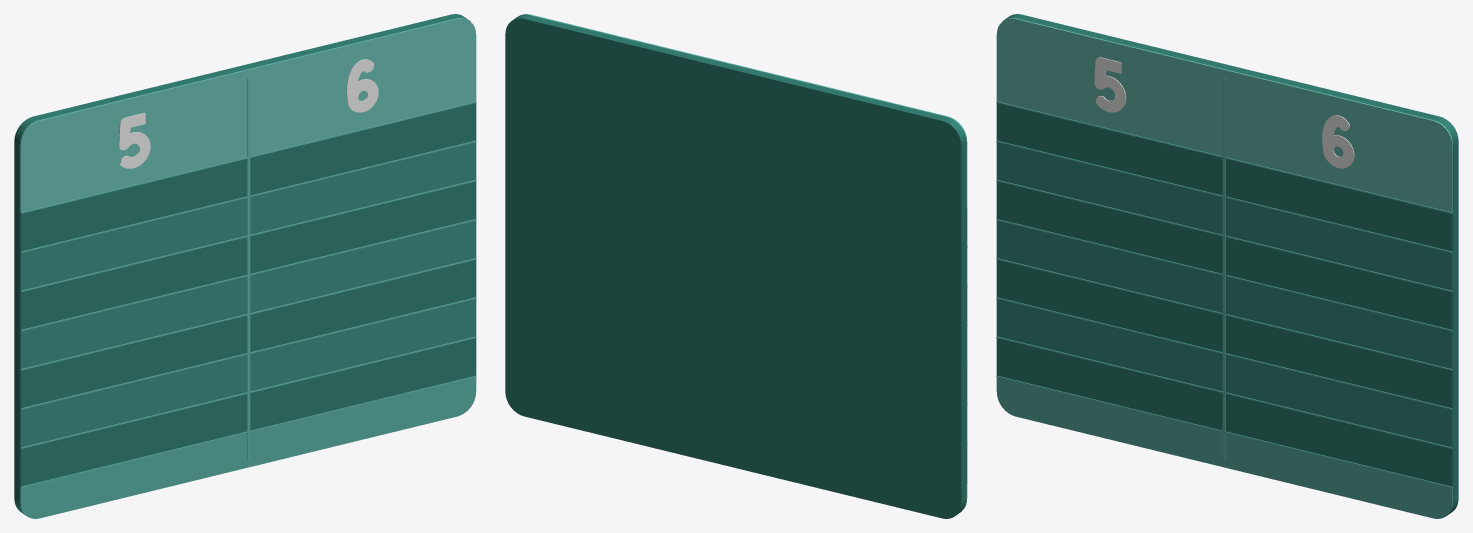
File: Information board_5and6.glb
The picture shows the model from 3 angles, left to right: view 1: azimuth 30°, elevation 25°; view 2: azimuth 150°, elevation 25°; view 3: azimuth 330°, elevation 25°; orthographic projection.
Visible parts, largest first — view 1: LibSign56_Header, LibSign56_Band_4, LibSign56_Band_0, LibSign56_Band_3, LibSign56_Band_1, LibSign56_Band_6, LibSign56_Band_2, LibSign56_Band_5, LibSign56_Footer, LibSign56_Plate, LibSign56_Divider, LibSign56_Number_6 (+9 smaller); view 2: LibSign56_Plate, LibSign56_Header; view 3: LibSign56_Header, LibSign56_Band_0, LibSign56_Band_4, LibSign56_Band_3, LibSign56_Band_1, LibSign56_Band_6, LibSign56_Band_2, LibSign56_Band_5, LibSign56_Footer, LibSign56_Plate, LibSign56_Divider, LibSign56_Number_5 (+9 smaller).
Boxes of the visible parts, x1,y1,x2,y2 form: LibSign56_Header: [20, 18, 476, 212]; LibSign56_Band_4: [20, 260, 476, 408]; LibSign56_Band_0: [20, 103, 476, 251]; LibSign56_Band_3: [20, 220, 476, 369]; LibSign56_Band_1: [20, 142, 476, 290]; LibSign56_Band_6: [20, 338, 476, 486]; LibSign56_Band_2: [20, 181, 476, 329]; LibSign56_Band_5: [20, 299, 476, 447]; LibSign56_Footer: [20, 377, 476, 518]; LibSign56_Plate: [14, 14, 470, 515]; LibSign56_Divider: [247, 77, 250, 460]; LibSign56_Number_6: [346, 59, 378, 112]; LibSign56_Plate: [505, 14, 966, 518]; LibSign56_Header: [520, 14, 967, 207]; LibSign56_Header: [996, 18, 1452, 212]; LibSign56_Band_0: [996, 103, 1452, 251]; LibSign56_Band_4: [996, 260, 1452, 408]; LibSign56_Band_3: [996, 220, 1452, 369]; LibSign56_Band_1: [996, 142, 1452, 290]; LibSign56_Band_6: [996, 338, 1452, 486]; LibSign56_Band_2: [996, 181, 1452, 329]; LibSign56_Band_5: [996, 299, 1452, 447]; LibSign56_Footer: [996, 377, 1452, 518]; LibSign56_Plate: [1002, 14, 1458, 515]; LibSign56_Divider: [1222, 77, 1225, 460]; LibSign56_Number_5: [1094, 57, 1126, 112].
Bounding box in the file's own units: 0.6 × 0.5 × 0.015.
